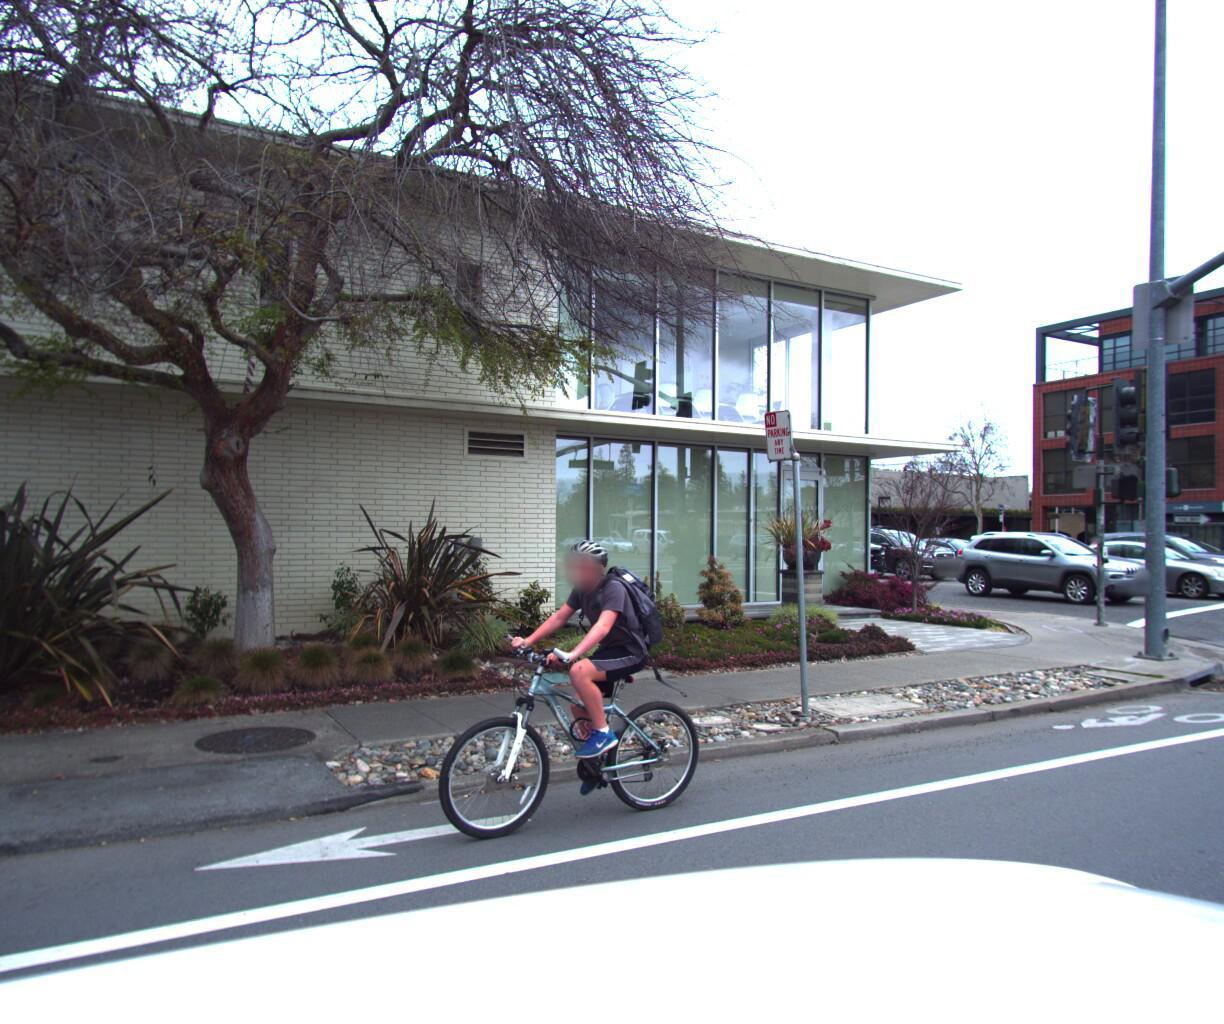bicycle: (411, 520, 747, 862)
car: (946, 532, 1165, 607), (1051, 540, 1224, 603), (1088, 532, 1224, 596), (762, 533, 895, 588), (828, 529, 963, 582), (1099, 540, 1224, 585)
